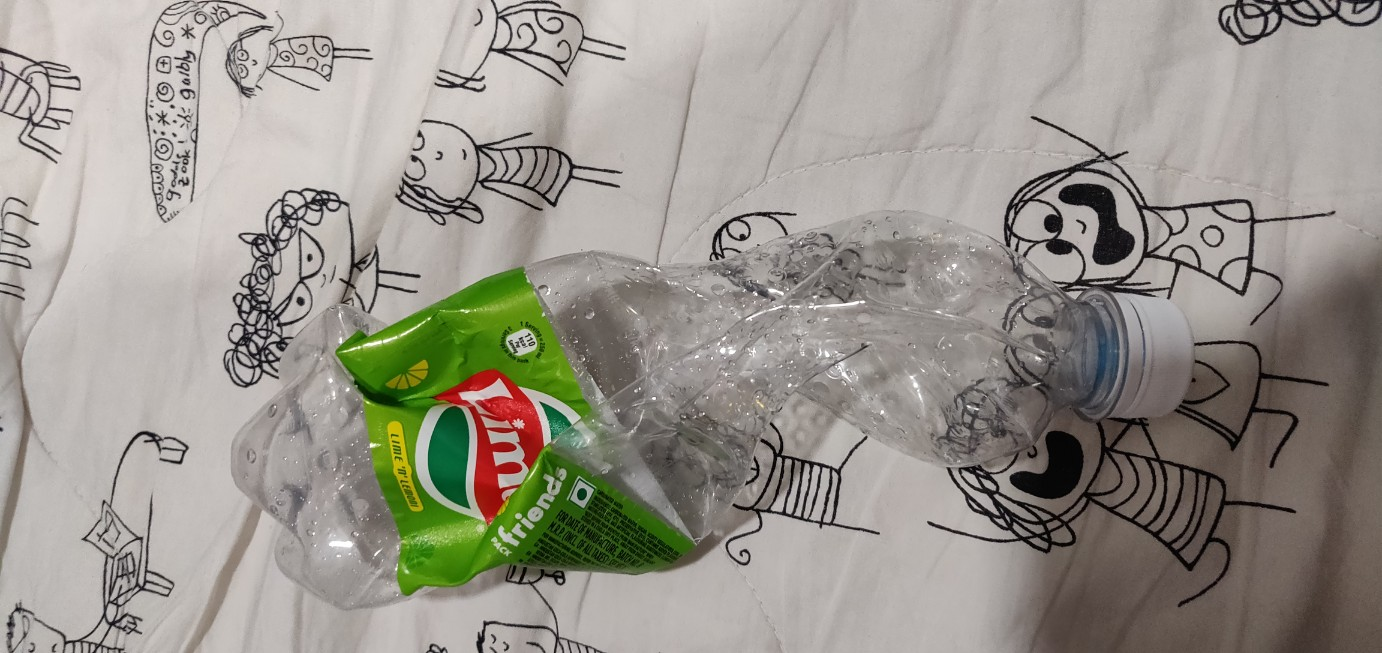Electronics: (205, 185, 1226, 642)
